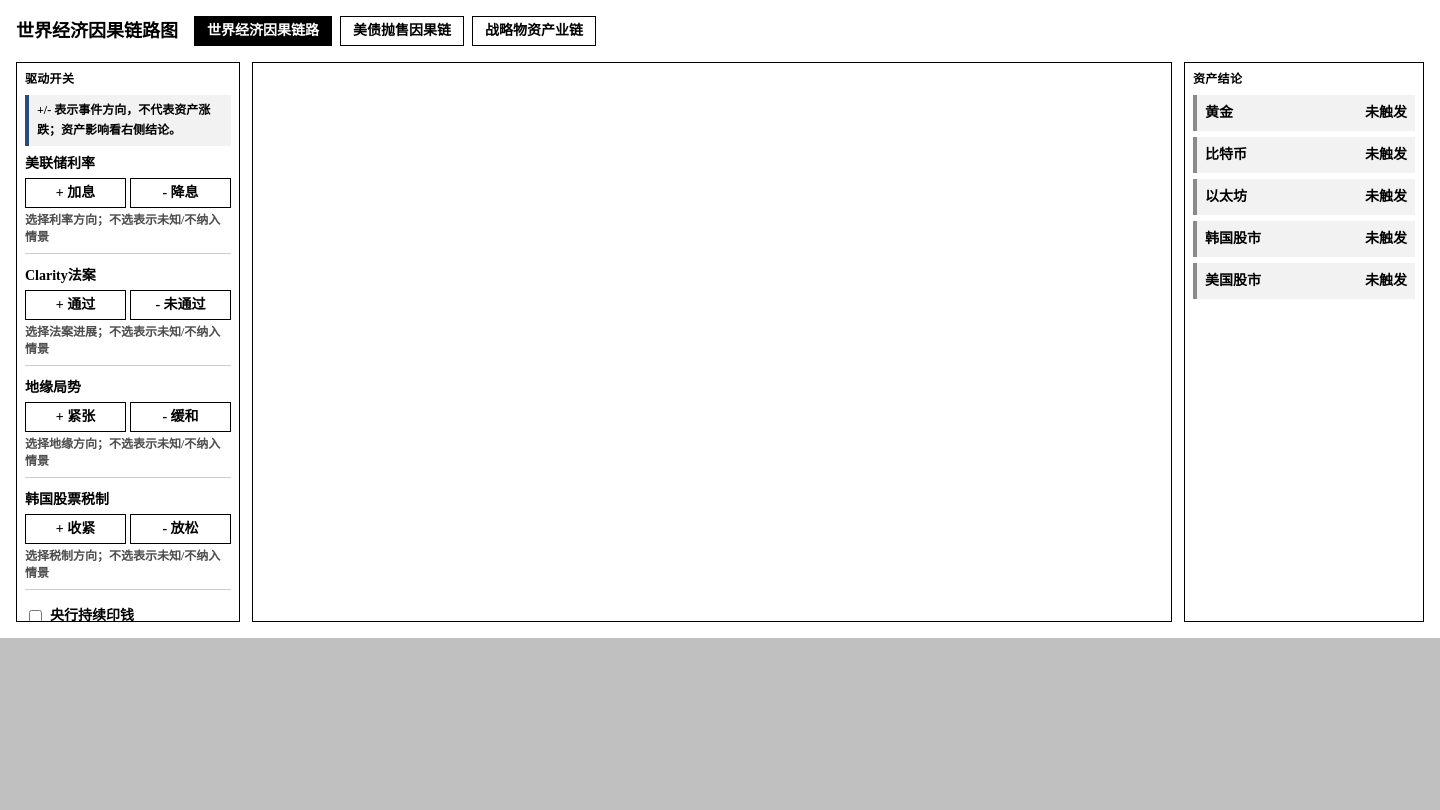
Test case: CausalGraphSection › 切换到美债抛售因果链：默认五诱因全亮，结论面板成立
The width and height of the screenshot is (1440, 810).
What coordinates should you click on to do the following:
click the button "美债抛售因果链"
I would click on:
 (402, 31)
Its box is [340,16,464,46].
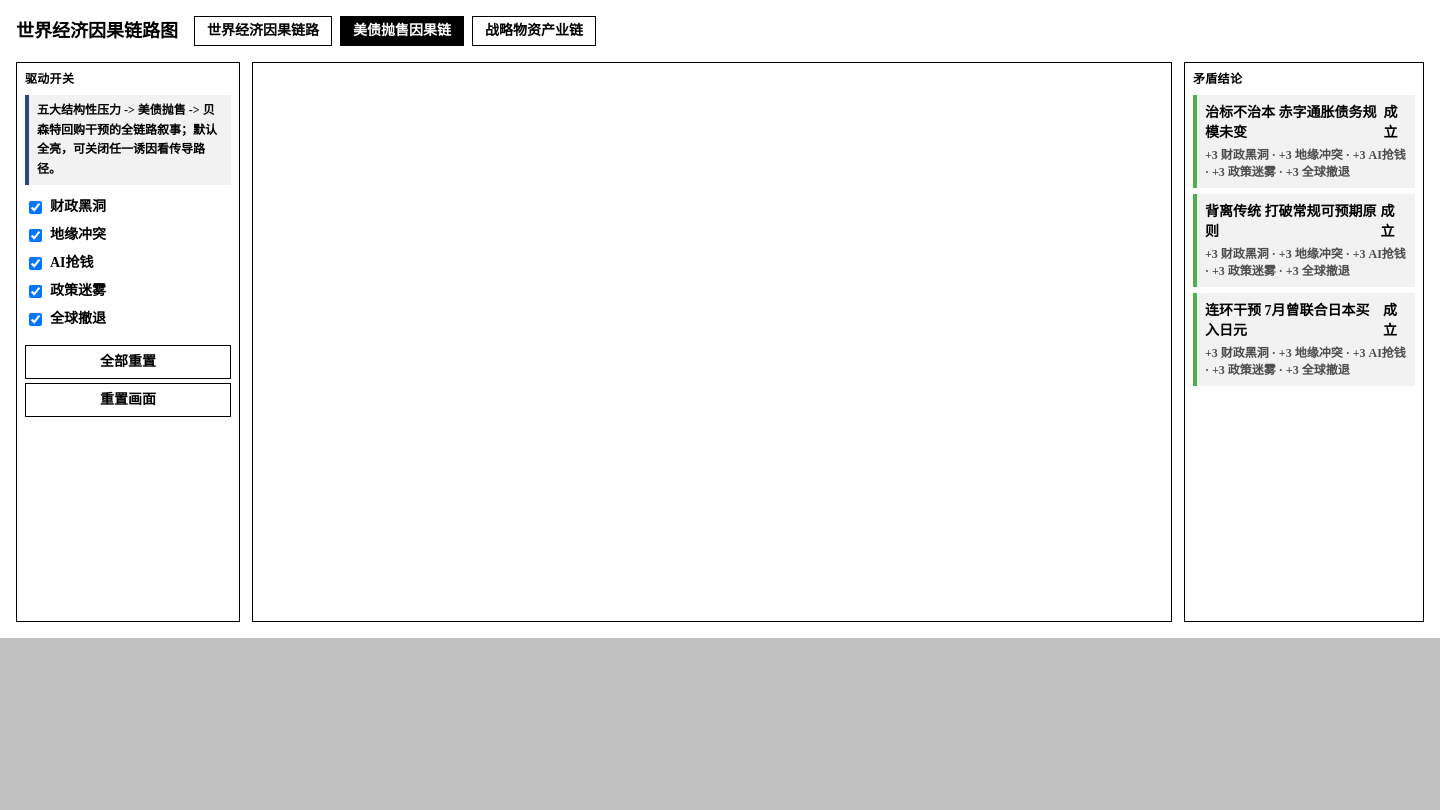
Expected: the heading "矛盾结论" is shown, [1193,72,1242,86]
Expected: the checkbox labelled "财政黑洞" is checked, [29,200,42,214]
Expected: the text "成立" is shown 3 times, [1384,105,1398,140]; [1380,204,1394,239]; [1383,303,1397,338]
